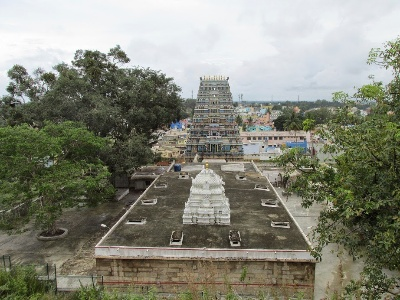gopura: (169, 75, 256, 163)
